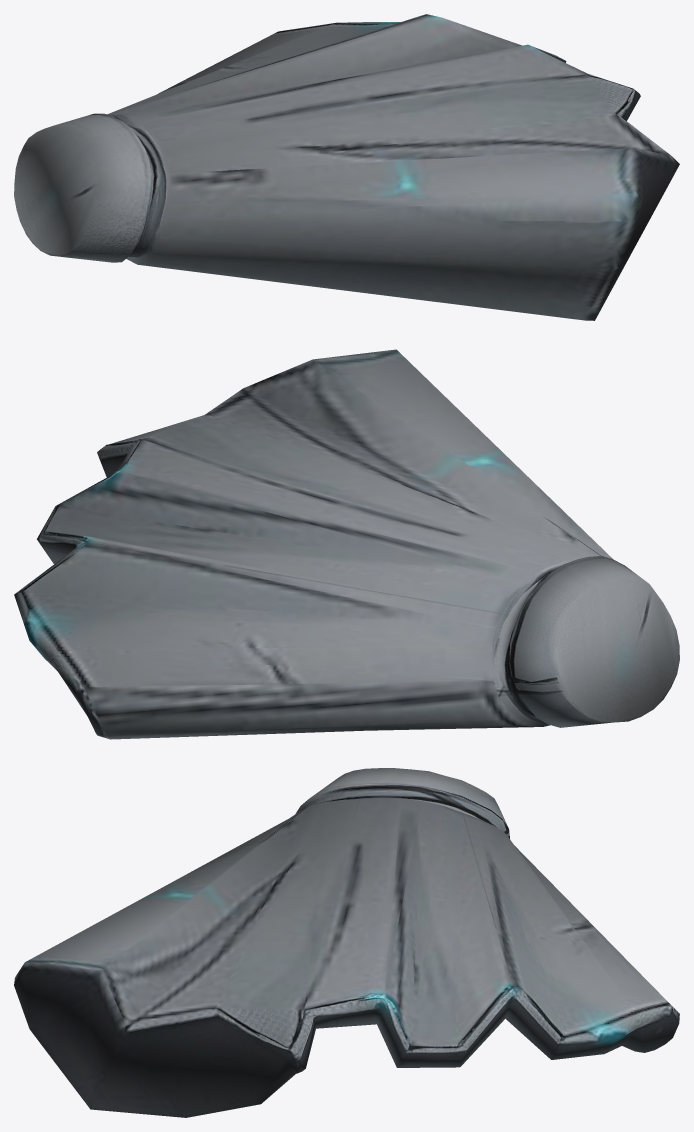
File: 06 junk.glb
3 views of the same model, one above another, from view 1: azimuth 30°, elevation 25°; view 2: azimuth 150°, elevation 25°; view 3: azimuth 270°, elevation 25° (orthographic). The views are drawn at different scales.
Parts seen in each view (by area): view 1: tripo_node_689f9ffd-13b9-48ca-a396-7b1847f3b7fa; view 2: tripo_node_689f9ffd-13b9-48ca-a396-7b1847f3b7fa; view 3: tripo_node_689f9ffd-13b9-48ca-a396-7b1847f3b7fa.
Part boxes in pixels (x1,y1,x2,y2): tripo_node_689f9ffd-13b9-48ca-a396-7b1847f3b7fa: (14, 14, 679, 320); tripo_node_689f9ffd-13b9-48ca-a396-7b1847f3b7fa: (14, 349, 679, 739); tripo_node_689f9ffd-13b9-48ca-a396-7b1847f3b7fa: (14, 768, 679, 1117).
Size of the model in its own units: 0.1575 by 0.0451 by 0.163.
1 material, 1 textured.
